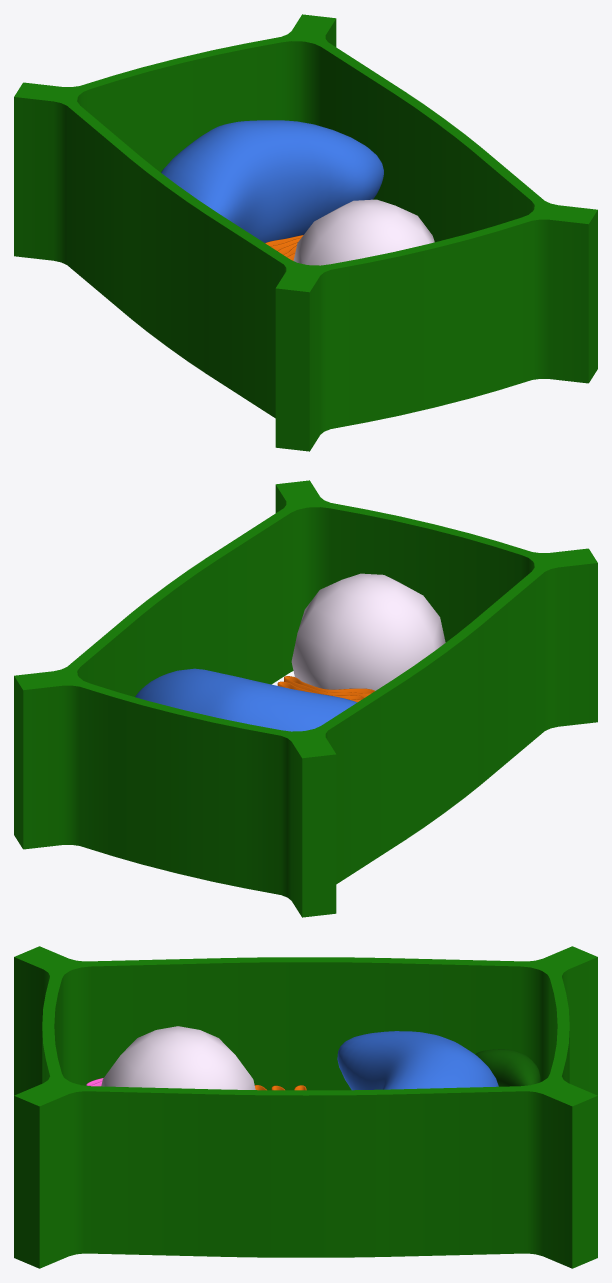
Rendered from cell_plant.fbx.
3 views of the same model, one above another, from view 1: azimuth 30°, elevation 25°; view 2: azimuth 150°, elevation 25°; view 3: azimuth 270°, elevation 25° (orthographic).
Visible parts, largest first — view 1: Membrane, Central Vacuole, Core; view 2: Membrane, Core, Central Vacuole, Goldgi Apparatus; view 3: Membrane, Central Vacuole, Core, Cloroplast.
Boxes of the visible parts, x1,y1,x2,y2 form: Membrane: (14, 14, 597, 451); Central Vacuole: (161, 120, 383, 242); Core: (293, 199, 434, 265); Membrane: (14, 480, 597, 917); Core: (291, 573, 445, 690); Central Vacuole: (135, 668, 357, 731); Goldgi Apparatus: (277, 676, 374, 702); Membrane: (14, 946, 597, 1268); Central Vacuole: (337, 1031, 498, 1090); Core: (101, 1026, 255, 1089); Cloroplast: (475, 1049, 540, 1086).
Bounding box in the file's own units: 148 × 70 × 228.
